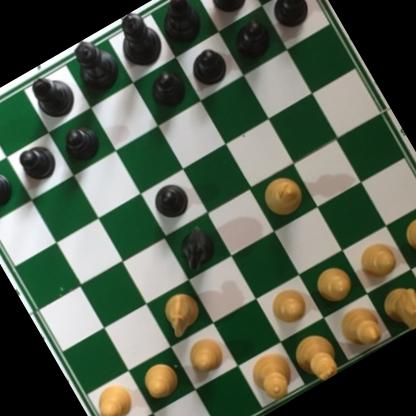black-bishop: (26, 65, 84, 126), (147, 0, 207, 50)
black-king: (106, 7, 169, 74)
black-knight: (167, 220, 223, 277), (197, 0, 257, 20)
black-pawn: (51, 119, 103, 170), (144, 175, 195, 227), (143, 66, 193, 118), (227, 17, 277, 68), (184, 44, 233, 93), (13, 138, 60, 186), (265, 0, 316, 32), (0, 164, 20, 219)
black-queen: (62, 32, 126, 100)
black-rook: (0, 105, 2, 173), (233, 0, 301, 1)
white-bishop: (252, 161, 315, 225), (332, 295, 391, 357)
white-king: (284, 325, 347, 390)
white-knight: (154, 284, 208, 340), (376, 278, 416, 338)
white-pawn: (134, 354, 188, 409), (310, 260, 362, 312), (263, 281, 314, 333), (179, 331, 230, 381), (85, 374, 143, 416), (353, 237, 402, 284), (397, 208, 416, 260)
white-queen: (240, 344, 303, 410)
white-rook: (415, 245, 416, 310)
